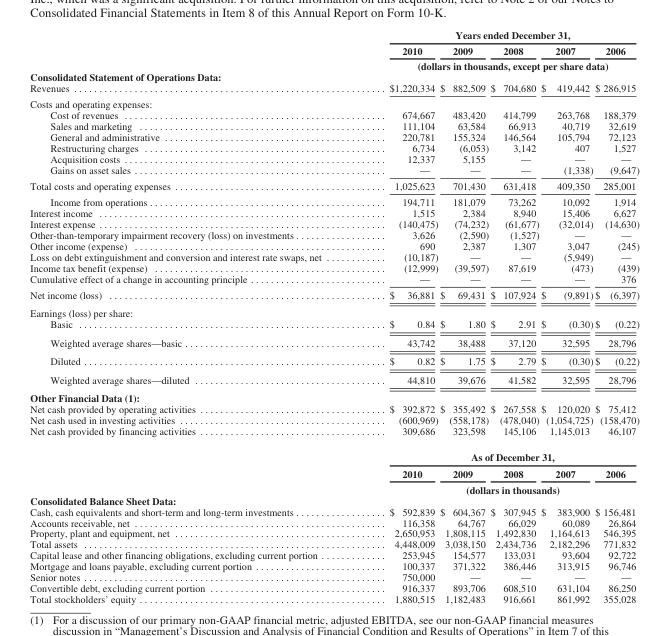table: (29, 28, 638, 604)
table column: (29, 28, 354, 604), (354, 28, 438, 604), (539, 28, 593, 604), (488, 28, 539, 604), (438, 28, 488, 604), (593, 28, 638, 604)
table column header: (29, 28, 638, 70)
table projected row header: (29, 303, 638, 318), (29, 388, 638, 403), (29, 95, 638, 108), (29, 70, 638, 81), (29, 494, 638, 505)
table row: (29, 443, 638, 464), (29, 332, 638, 351), (29, 351, 638, 370), (29, 370, 638, 388), (29, 425, 638, 443), (29, 286, 638, 303), (29, 177, 638, 193), (29, 464, 638, 480), (29, 42, 638, 57), (29, 303, 638, 318), (29, 388, 638, 403), (29, 28, 638, 42), (29, 81, 638, 95), (29, 163, 638, 177), (29, 272, 638, 286), (29, 318, 638, 332), (29, 480, 638, 494), (29, 57, 638, 70), (29, 95, 638, 108), (29, 193, 638, 206), (29, 70, 638, 81), (29, 108, 638, 119), (29, 119, 638, 130), (29, 130, 638, 141), (29, 141, 638, 152), (29, 152, 638, 163), (29, 206, 638, 217), (29, 217, 638, 228), (29, 228, 638, 239), (29, 239, 638, 250), (29, 250, 638, 261), (29, 261, 638, 272), (29, 403, 638, 414), (29, 414, 638, 425), (29, 494, 638, 505), (29, 505, 638, 516), (29, 516, 638, 527), (29, 527, 638, 538), (29, 538, 638, 549), (29, 549, 638, 560), (29, 560, 638, 571), (29, 571, 638, 582), (29, 582, 638, 593), (29, 593, 638, 604)
table spanning cell: (354, 443, 638, 464), (354, 28, 638, 42), (354, 480, 638, 494), (354, 57, 638, 70)
